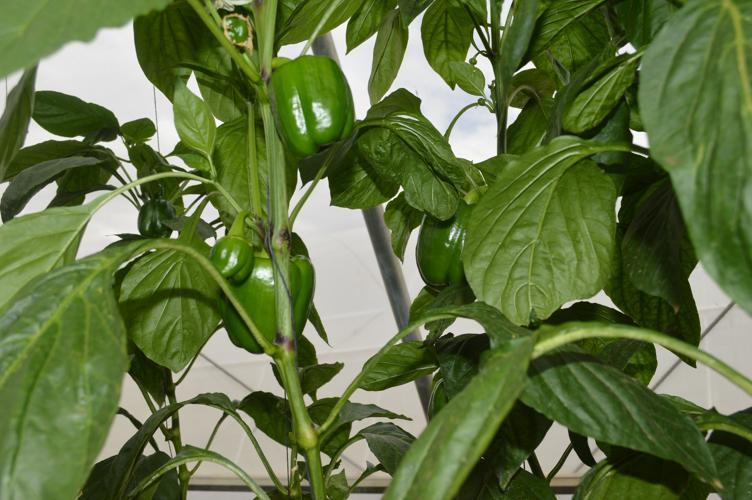BellPepper: (220, 257, 316, 365), (268, 54, 356, 158), (410, 197, 465, 293), (204, 238, 255, 284)
